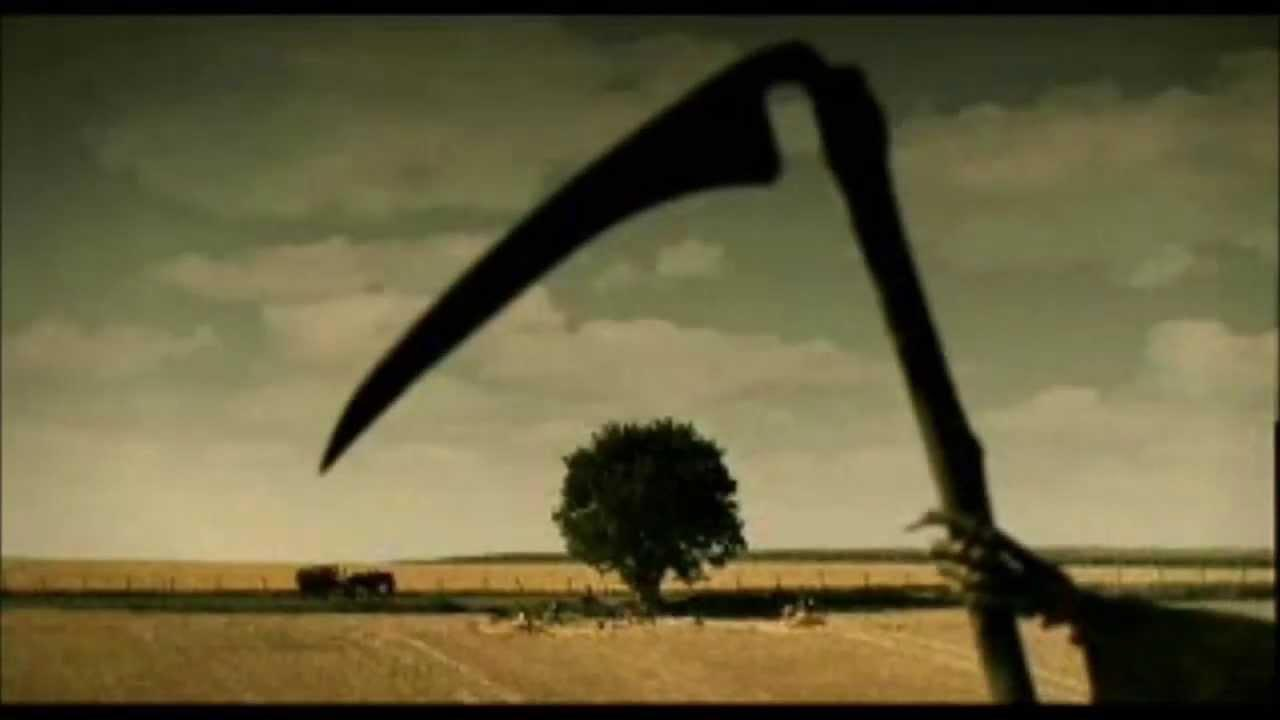foice: (296, 48, 972, 474)
